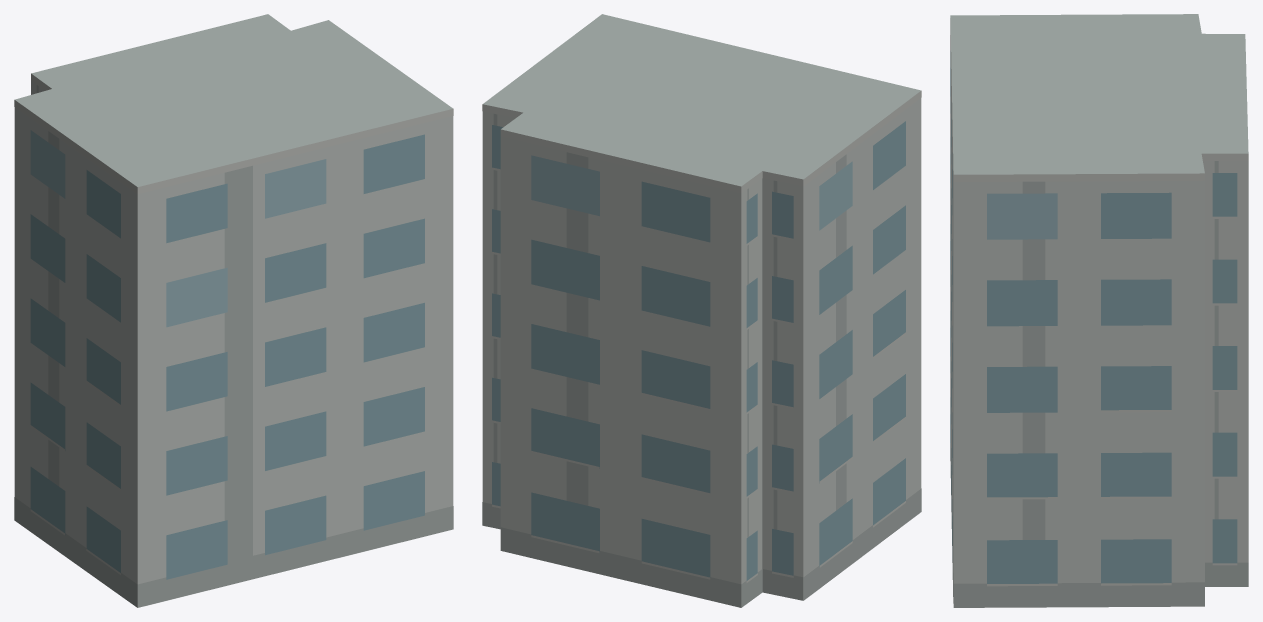
File: survey-upis-32994924.glb
3 views of the same model, side by side, from view 1: azimuth 30°, elevation 25°; view 2: azimuth 150°, elevation 25°; view 3: azimuth 270°, elevation 25° (orthographic). The views are drawn at different scales.
Visible parts, largest first — view 1: survey-upis-32994924.tmp; view 2: survey-upis-32994924.tmp; view 3: survey-upis-32994924.tmp.
Part boxes in pixels (x1,y1,x2,y2): survey-upis-32994924.tmp: (14, 14, 453, 607); survey-upis-32994924.tmp: (482, 14, 921, 607); survey-upis-32994924.tmp: (950, 14, 1248, 607).
Size of the model in its own units: 11.39 by 14.3 by 8.93.
